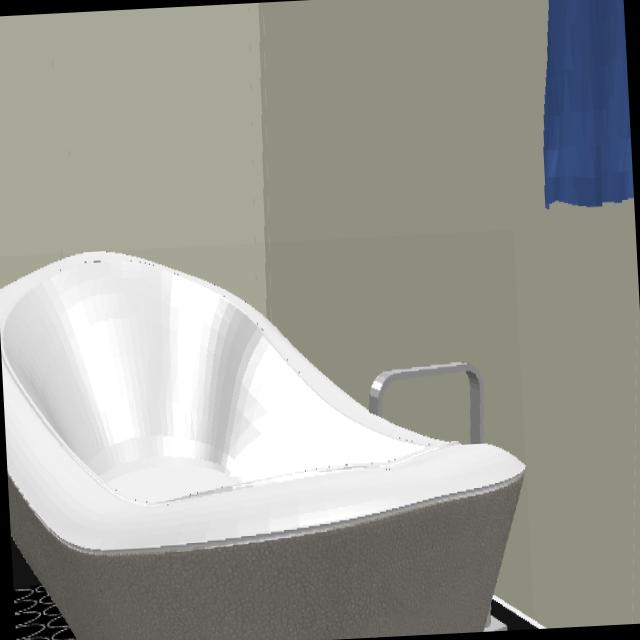bathtube: (0, 251, 527, 640)
